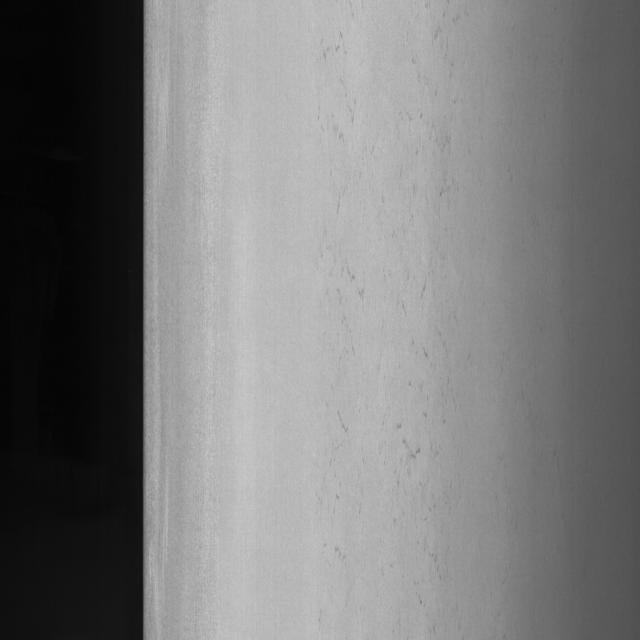inclusion: (314, 32, 469, 546)
